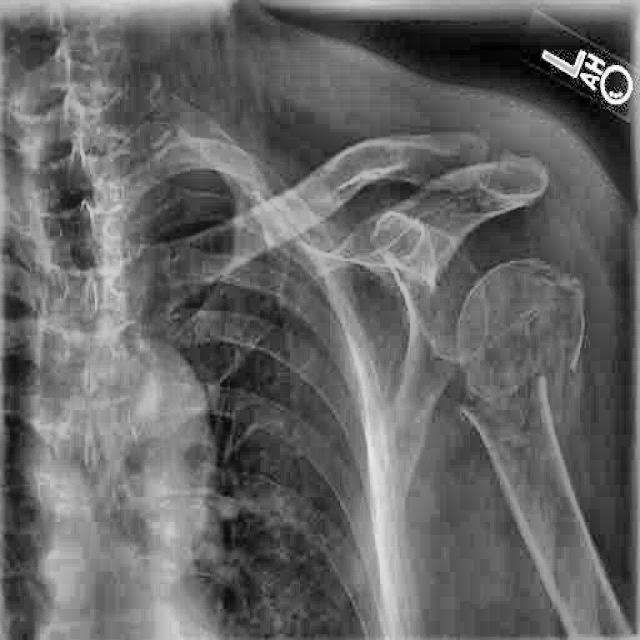shoulder fracture: (435, 316, 613, 472)
